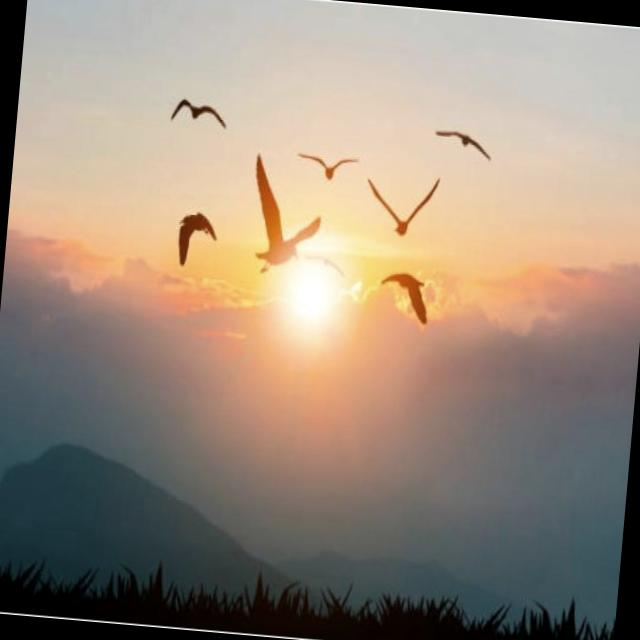bird: (246, 157, 316, 273), (363, 174, 445, 246), (167, 198, 223, 270), (372, 265, 441, 321), (167, 81, 231, 141), (429, 118, 502, 168), (289, 142, 362, 188)
